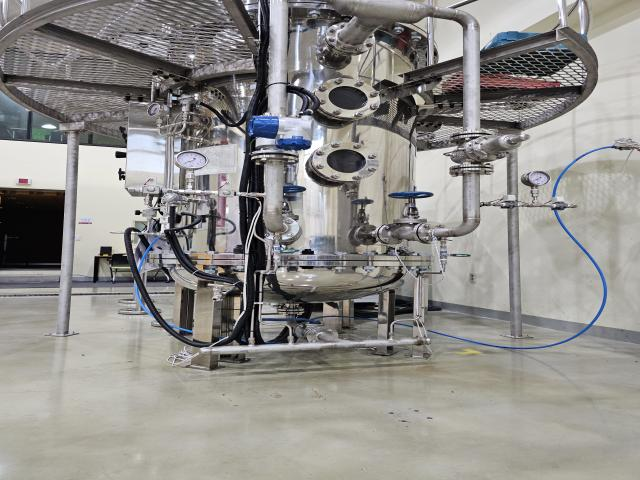Flange: (312, 76, 383, 120), (312, 142, 380, 182)
Flush Ring: (323, 22, 379, 56), (257, 217, 301, 241), (247, 149, 302, 166), (413, 222, 444, 243), (449, 162, 495, 176), (302, 327, 341, 342), (378, 224, 406, 244), (450, 132, 494, 142)
GasRegulator: (147, 96, 216, 142)
Nuts: (495, 200, 522, 210), (549, 201, 573, 212), (142, 184, 161, 196), (218, 189, 238, 198)
Piston Valve: (389, 188, 436, 219), (283, 183, 308, 213)
Pressure Gage: (172, 148, 210, 188), (522, 170, 554, 200)
